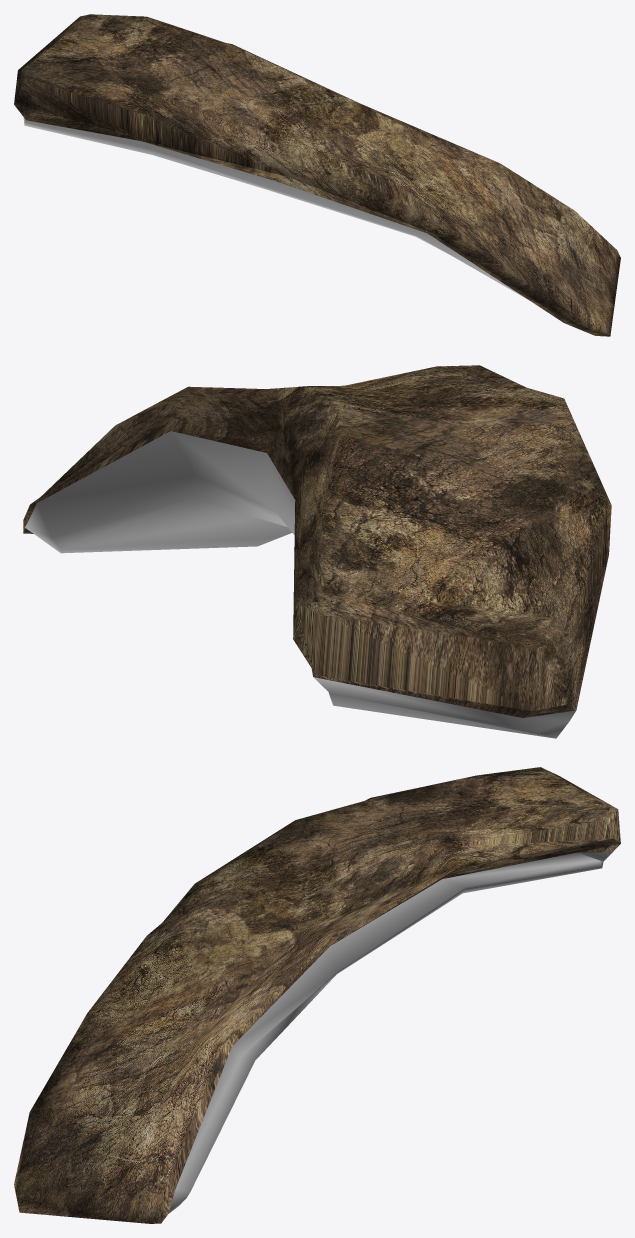
The model's file is Discesa02.FBX.
The picture shows the model from 3 angles, top to bottom: view 1: azimuth 30°, elevation 25°; view 2: azimuth 150°, elevation 25°; view 3: azimuth 270°, elevation 25°; orthographic projection. The views are drawn at different scales.
Visible parts, largest first — view 1: Plat011; view 2: Plat011; view 3: Plat011.
Boxes of the visible parts, box(x1,y1,x2,y2) form: Plat011: box(14, 14, 620, 336); Plat011: box(23, 365, 611, 738); Plat011: box(14, 767, 620, 1223).
Size of the model in its own units: 45.32 by 22.17 by 45.67.
